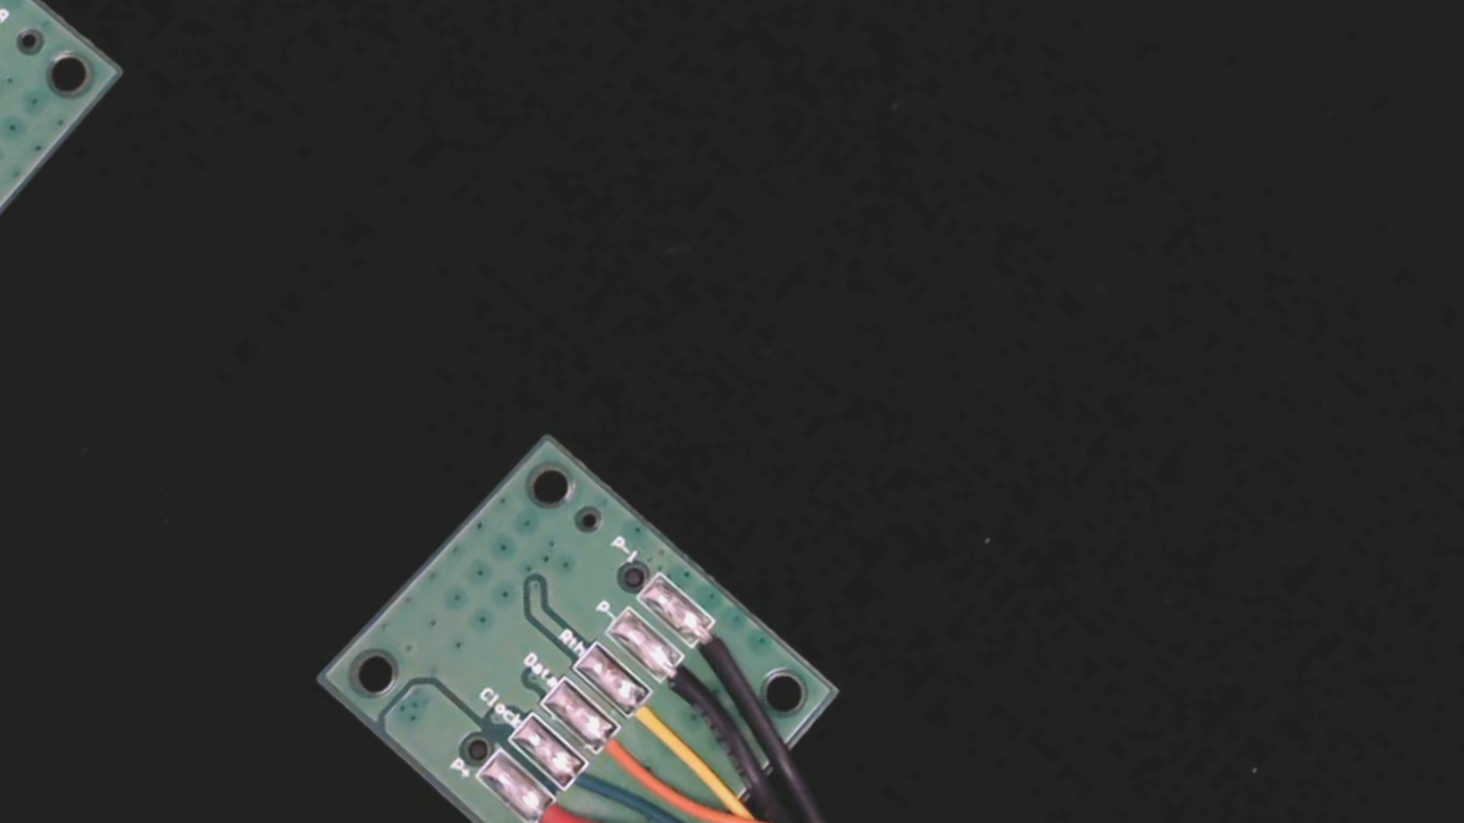Black: (644, 643, 729, 725)
Black1: (675, 603, 762, 685)
Green: (545, 746, 626, 823)
Orange: (577, 711, 669, 798)
Red: (512, 783, 591, 823)
Yellow: (609, 674, 704, 765)
